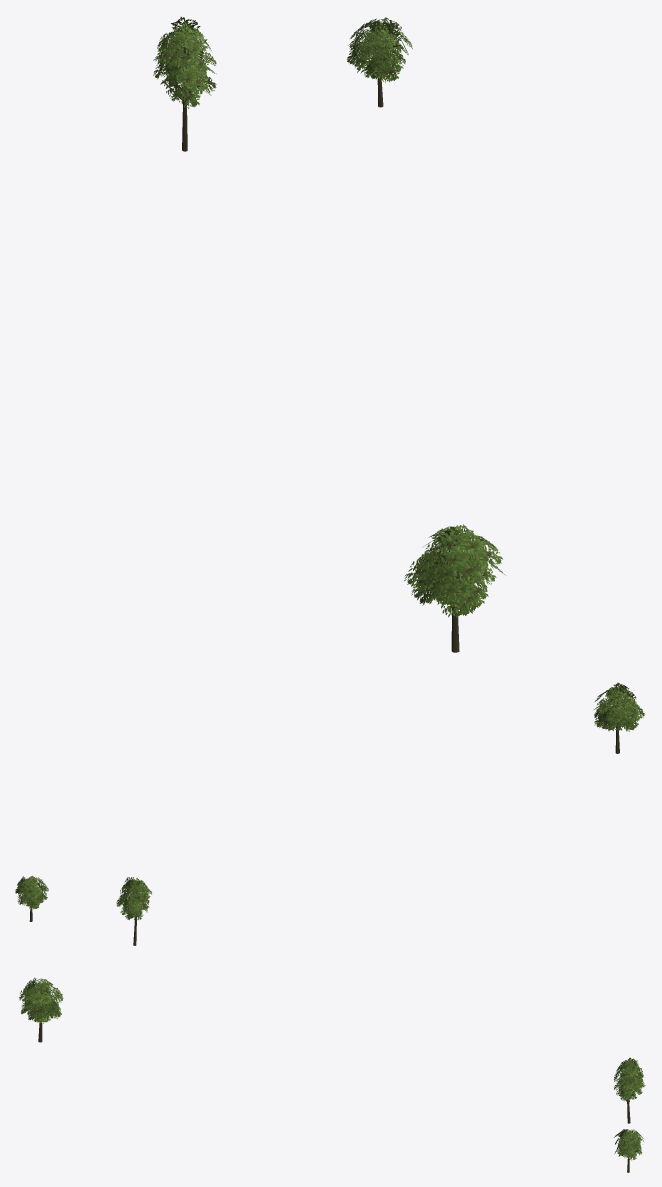
The model's file is TRB8-FOREST-CHUNK-8-3.glb.
The picture shows the model from 3 angles, top to bottom: view 1: azimuth 30°, elevation 25°; view 2: azimuth 150°, elevation 25°; view 3: azimuth 270°, elevation 25°; orthographic projection. The views are drawn at different scales.
Parts seen in each view (by area): view 1: TRB8-FOREST-CHUNK-8-3; view 2: TRB8-FOREST-CHUNK-8-3; view 3: TRB8-FOREST-CHUNK-8-3.
Part boxes in pixels (x1,y1,x2,y2): TRB8-FOREST-CHUNK-8-3: [153, 17, 505, 652]; TRB8-FOREST-CHUNK-8-3: [15, 682, 644, 945]; TRB8-FOREST-CHUNK-8-3: [19, 977, 645, 1172].
Size of the model in its own units: 22.16 by 5.01 by 40.99.
Materials: 2 (1 with a texture image).
